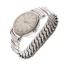watch: (12, 11, 40, 38)
